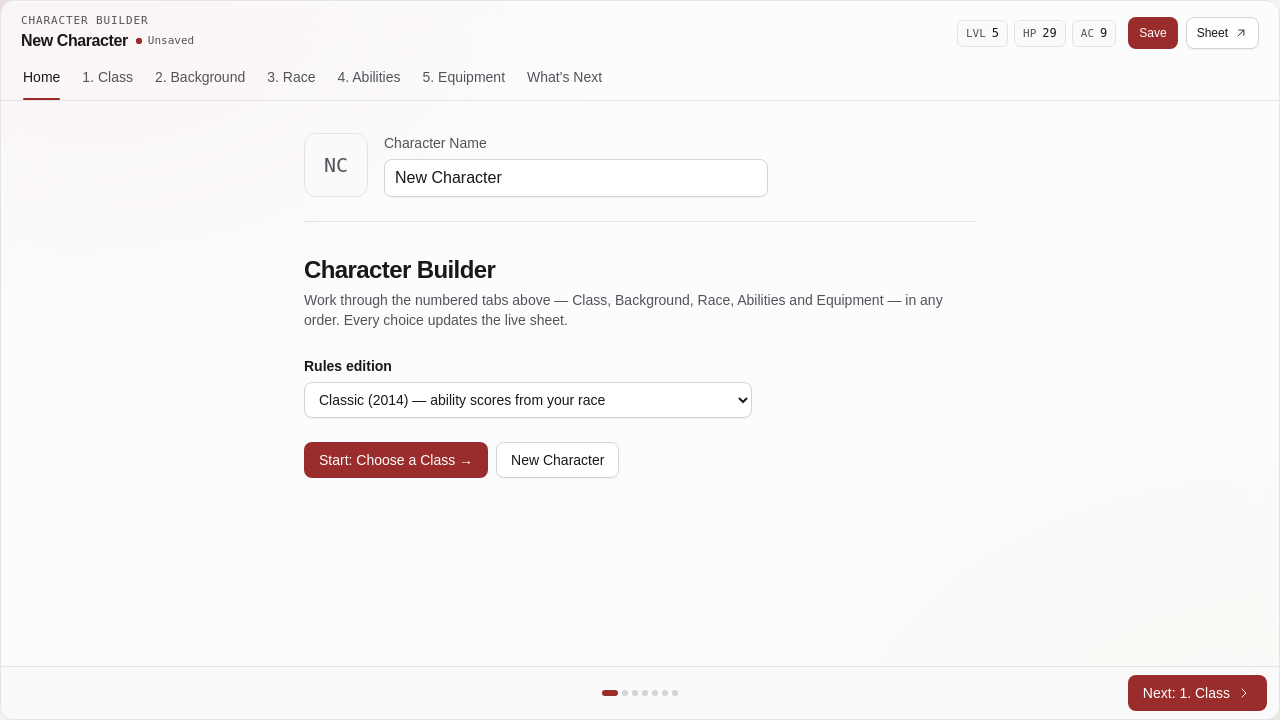
Test: class feature choice prompts › unlocks the second stance and the prerequisite option at level 5
Click the button "1. Class": (108, 80) x1=72 y1=59 x2=143 y2=100
(page scrolled)
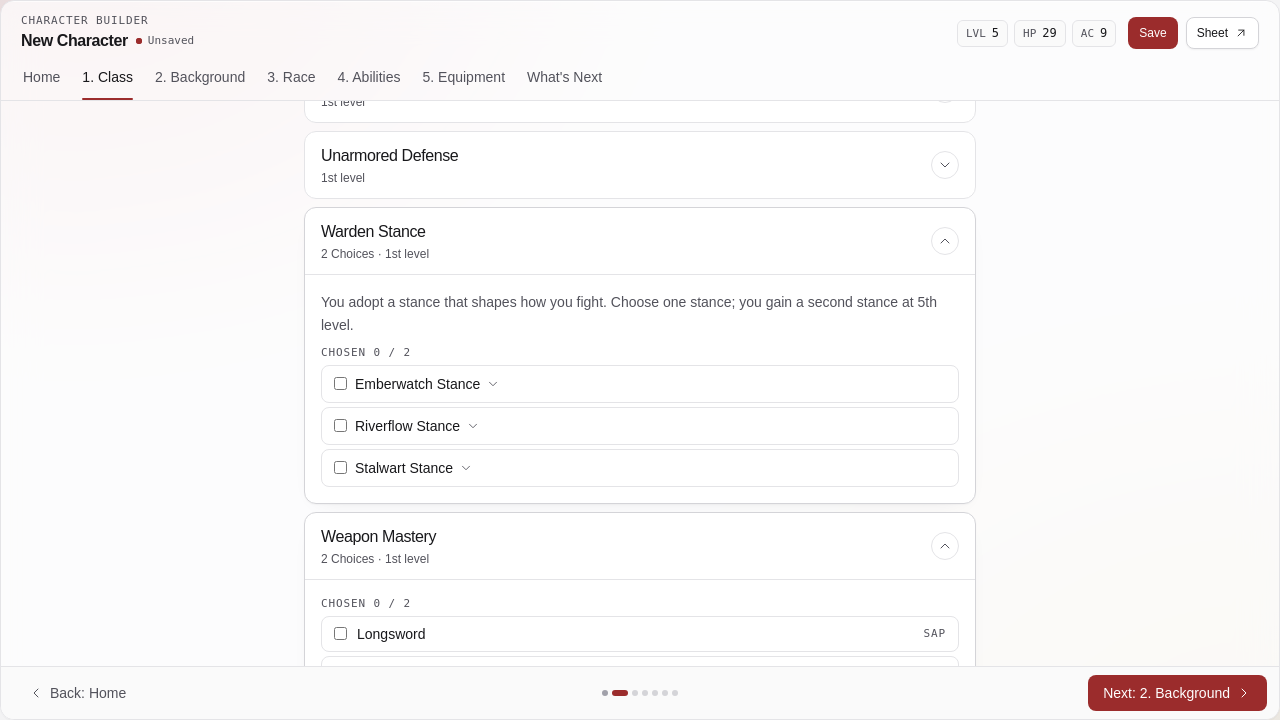
Check: the text "Chosen 0 / 2" is shown 2 times, box x1=321 y1=346 x2=411 y2=359; x1=321 y1=597 x2=411 y2=610
Check: the checkbox named "Emberwatch Stance" is enabled, box x1=334 y1=377 x2=347 y2=390
